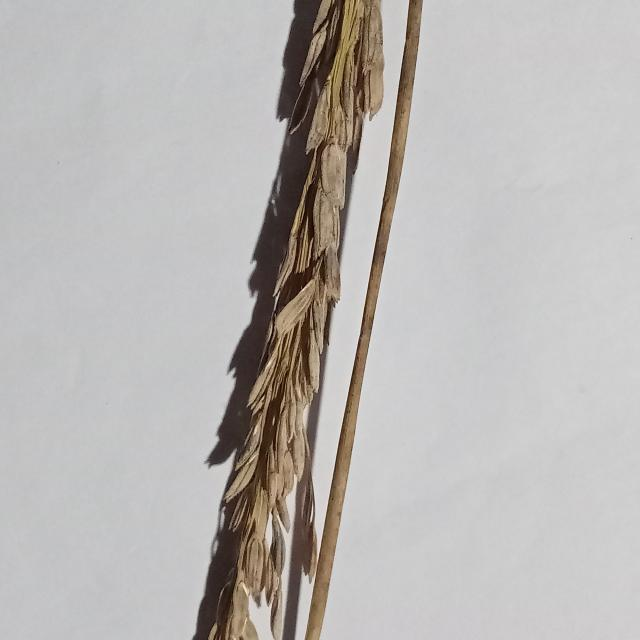Neck_Blast: (202, 4, 378, 640), (299, 0, 424, 640)
